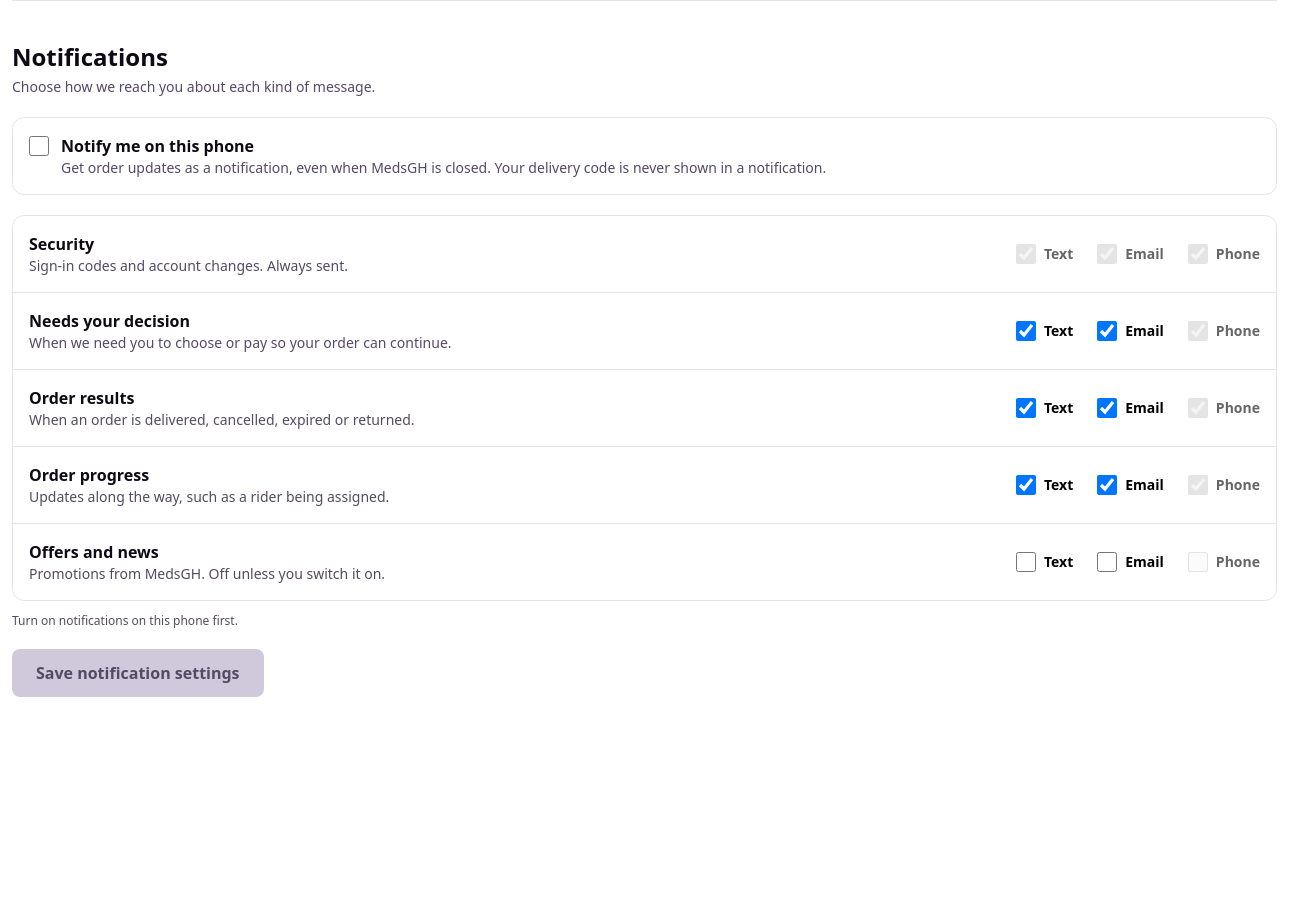
Scenario: NotificationPreferences screen › keeps Save disabled until something changes
Expected: the button with test id "save-notifications" is disabled, [12,649,264,697]
Click the switch labelled "Email" in the row of "Order progress".
click(1107, 485)  # box [1097,475,1117,495]
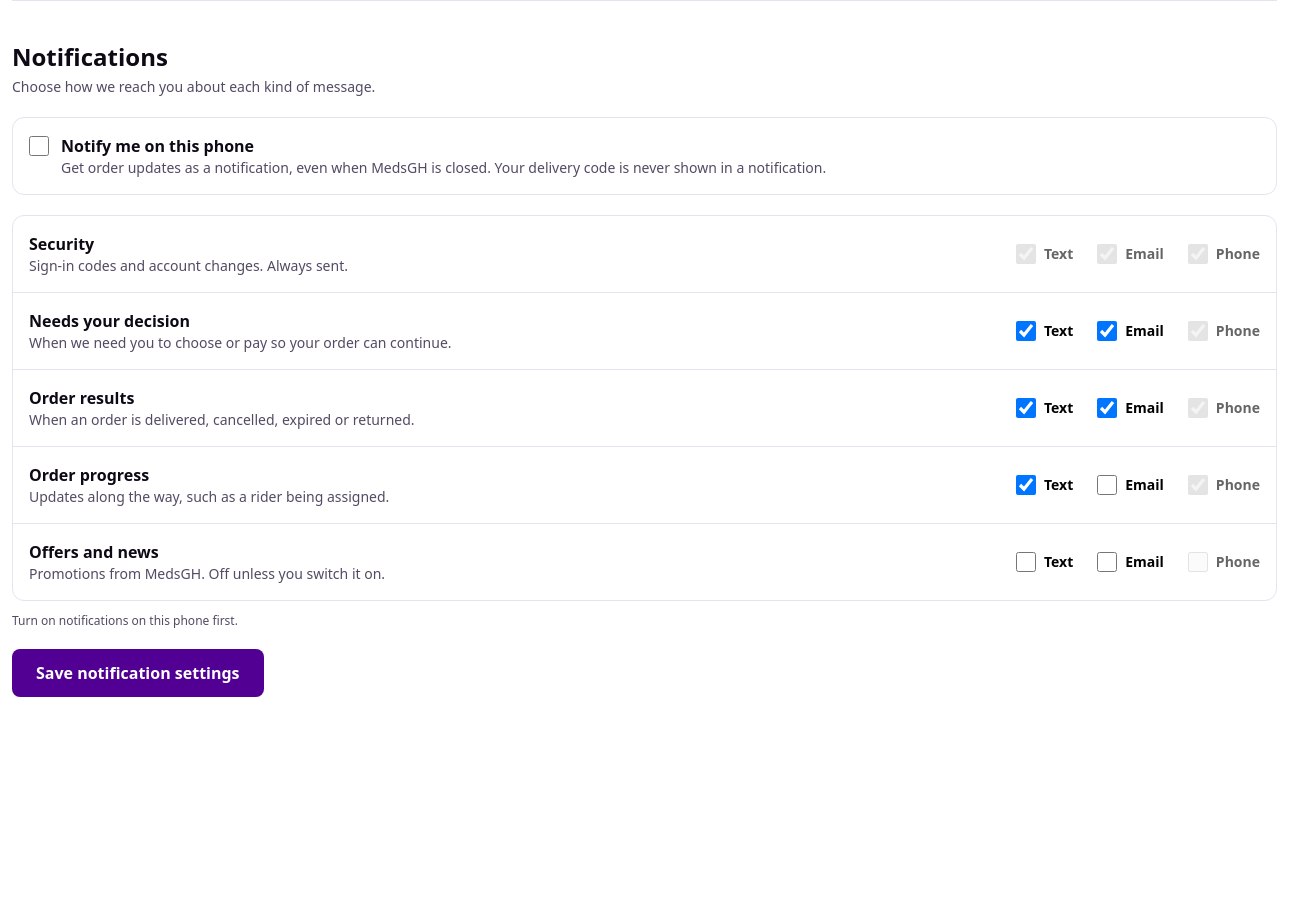
Expected: the button with test id "save-notifications" is enabled, [12,649,264,697]
